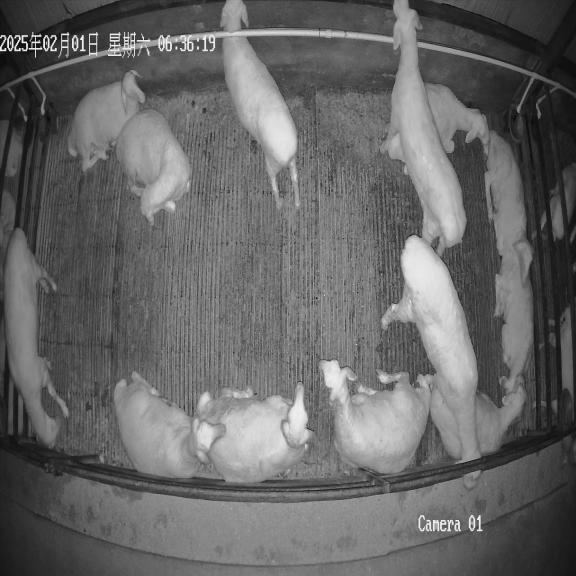eating: (381, 235, 482, 488)
lying: (319, 360, 431, 474), (195, 382, 313, 483), (114, 372, 225, 477), (114, 109, 191, 224), (428, 378, 526, 463), (67, 70, 145, 172), (484, 130, 533, 280), (495, 248, 533, 392), (424, 83, 489, 153)
stand: (383, 0, 466, 253), (220, 0, 300, 211), (4, 228, 69, 448)
